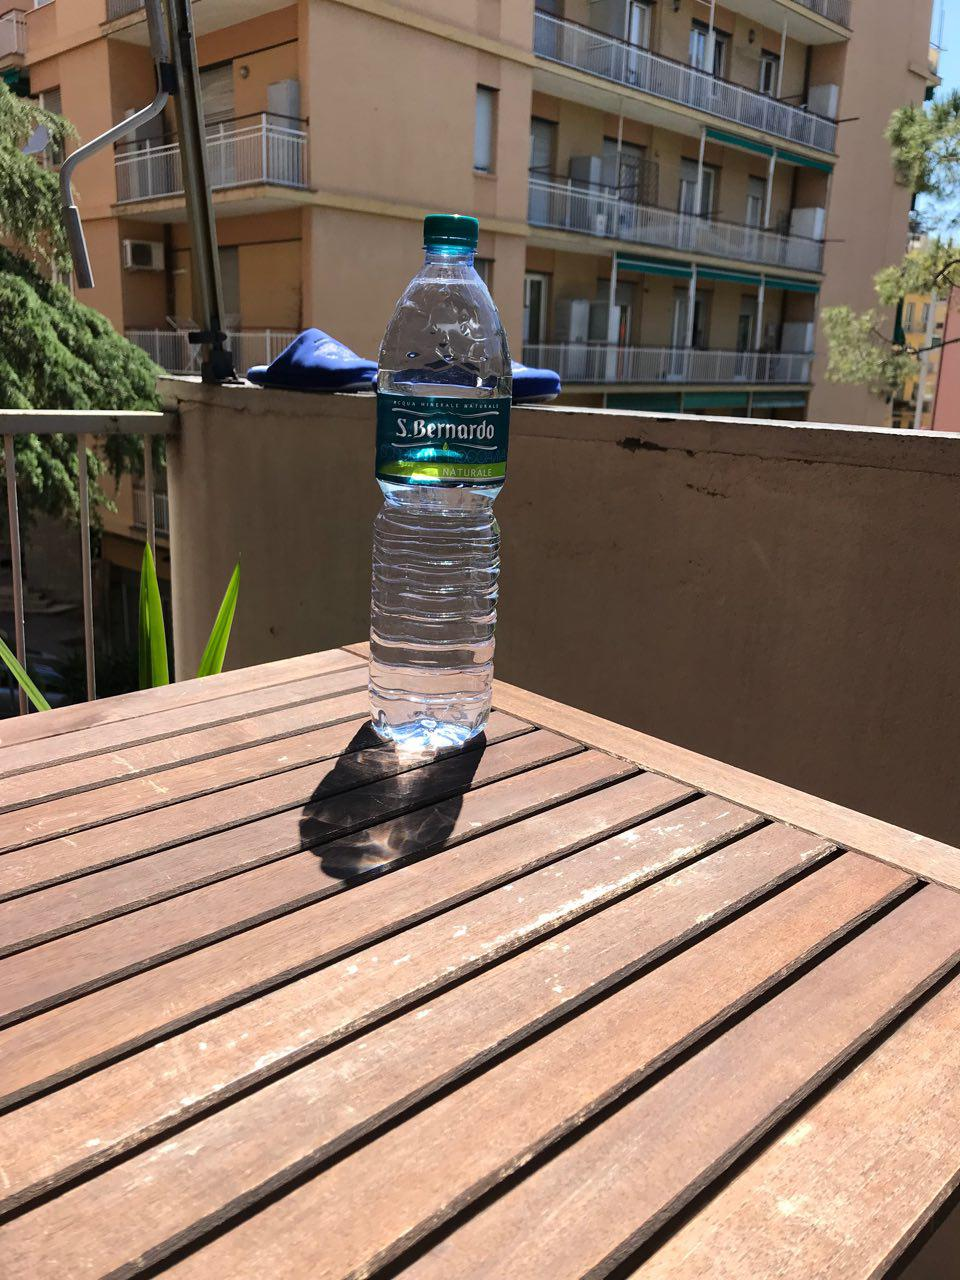san_bernardo: (368, 213, 513, 749)
